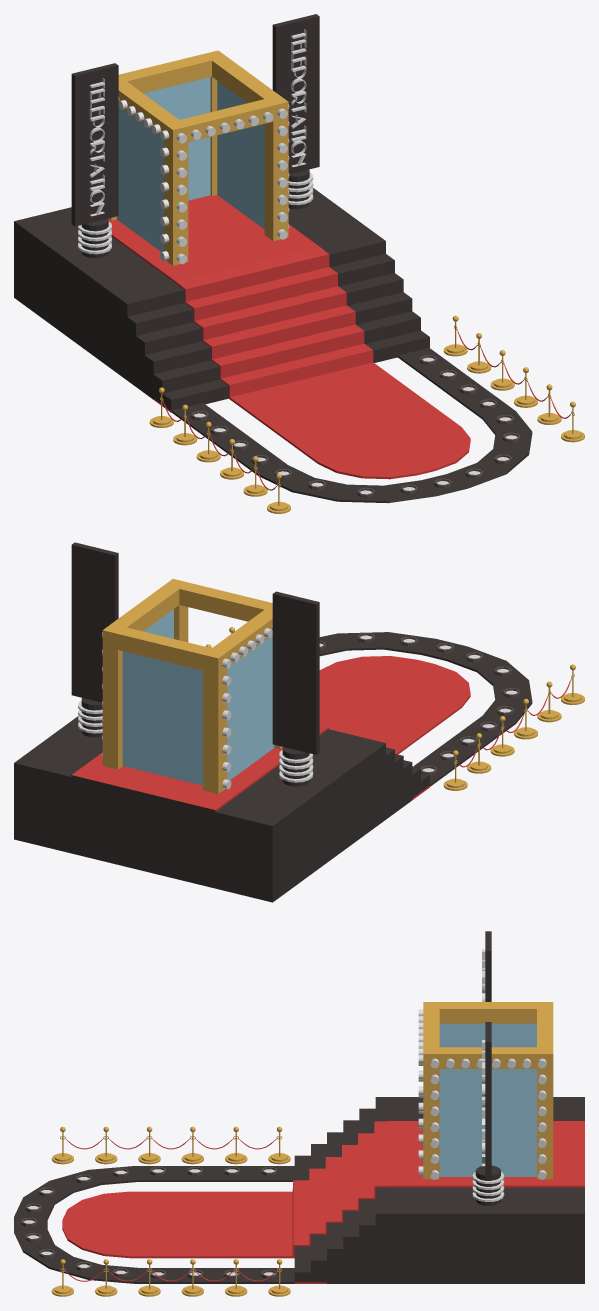
The model's file is D4_TELEPORT.fbx.
3 views of the same model, one above another, from view 1: azimuth 30°, elevation 25°; view 2: azimuth 150°, elevation 25°; view 3: azimuth 270°, elevation 25° (orthographic). The views are drawn at different scales.
Parts seen in each view (by area): view 1: Cube.041, Cube.045, Cube.042, Cube.043, Torus.002, Cube.044, Cylinder.013, Cylinder.014, Cylinder.015; view 2: Cube.041, Cube.045, Cube.042, Cube.044, Cube.043, Torus.002, Cylinder.013, Cylinder.015; view 3: Cube.041, Cube.043, Cube.042, Torus.002, Cube.045, Cylinder.013, Cylinder.016, Cylinder.014.
Part boxes in pixels (x1=…): Cube.041: x1=14, y1=187, x2=532, y2=503; Cube.045: x1=71, y1=14, x2=319, y2=258; Cube.042: x1=108, y1=50, x2=288, y2=265; Cube.043: x1=117, y1=81, x2=264, y2=251; Torus.002: x1=149, y1=315, x2=584, y2=513; Cube.044: x1=143, y1=77, x2=210, y2=200; Cylinder.013: x1=191, y1=355, x2=520, y2=497; Cylinder.014: x1=176, y1=108, x2=287, y2=264; Cylinder.015: x1=118, y1=97, x2=169, y2=260; Cube.041: x1=14, y1=632, x2=532, y2=902; Cube.045: x1=71, y1=542, x2=319, y2=786; Cube.042: x1=102, y1=579, x2=282, y2=793; Cube.044: x1=122, y1=651, x2=202, y2=785; Cube.043: x1=143, y1=609, x2=274, y2=780; Torus.002: x1=206, y1=627, x2=584, y2=790; Cylinder.013: x1=319, y1=632, x2=520, y2=775; Cylinder.015: x1=222, y1=625, x2=272, y2=789; Cube.041: x1=14, y1=1097, x2=584, y2=1283; Cube.043: x1=439, y1=1023, x2=536, y2=1176; Cube.042: x1=423, y1=1002, x2=553, y2=1179; Torus.002: x1=51, y1=1126, x2=290, y2=1296; Cube.045: x1=472, y1=931, x2=504, y2=1205; Cylinder.013: x1=21, y1=1167, x2=276, y2=1278; Cylinder.016: x1=430, y1=1058, x2=546, y2=1179; Cylinder.014: x1=418, y1=1009, x2=423, y2=1174.
Size of the model in its own units: 875 by 688 by 1487.
Materials: 5 (2 with a texture image).
